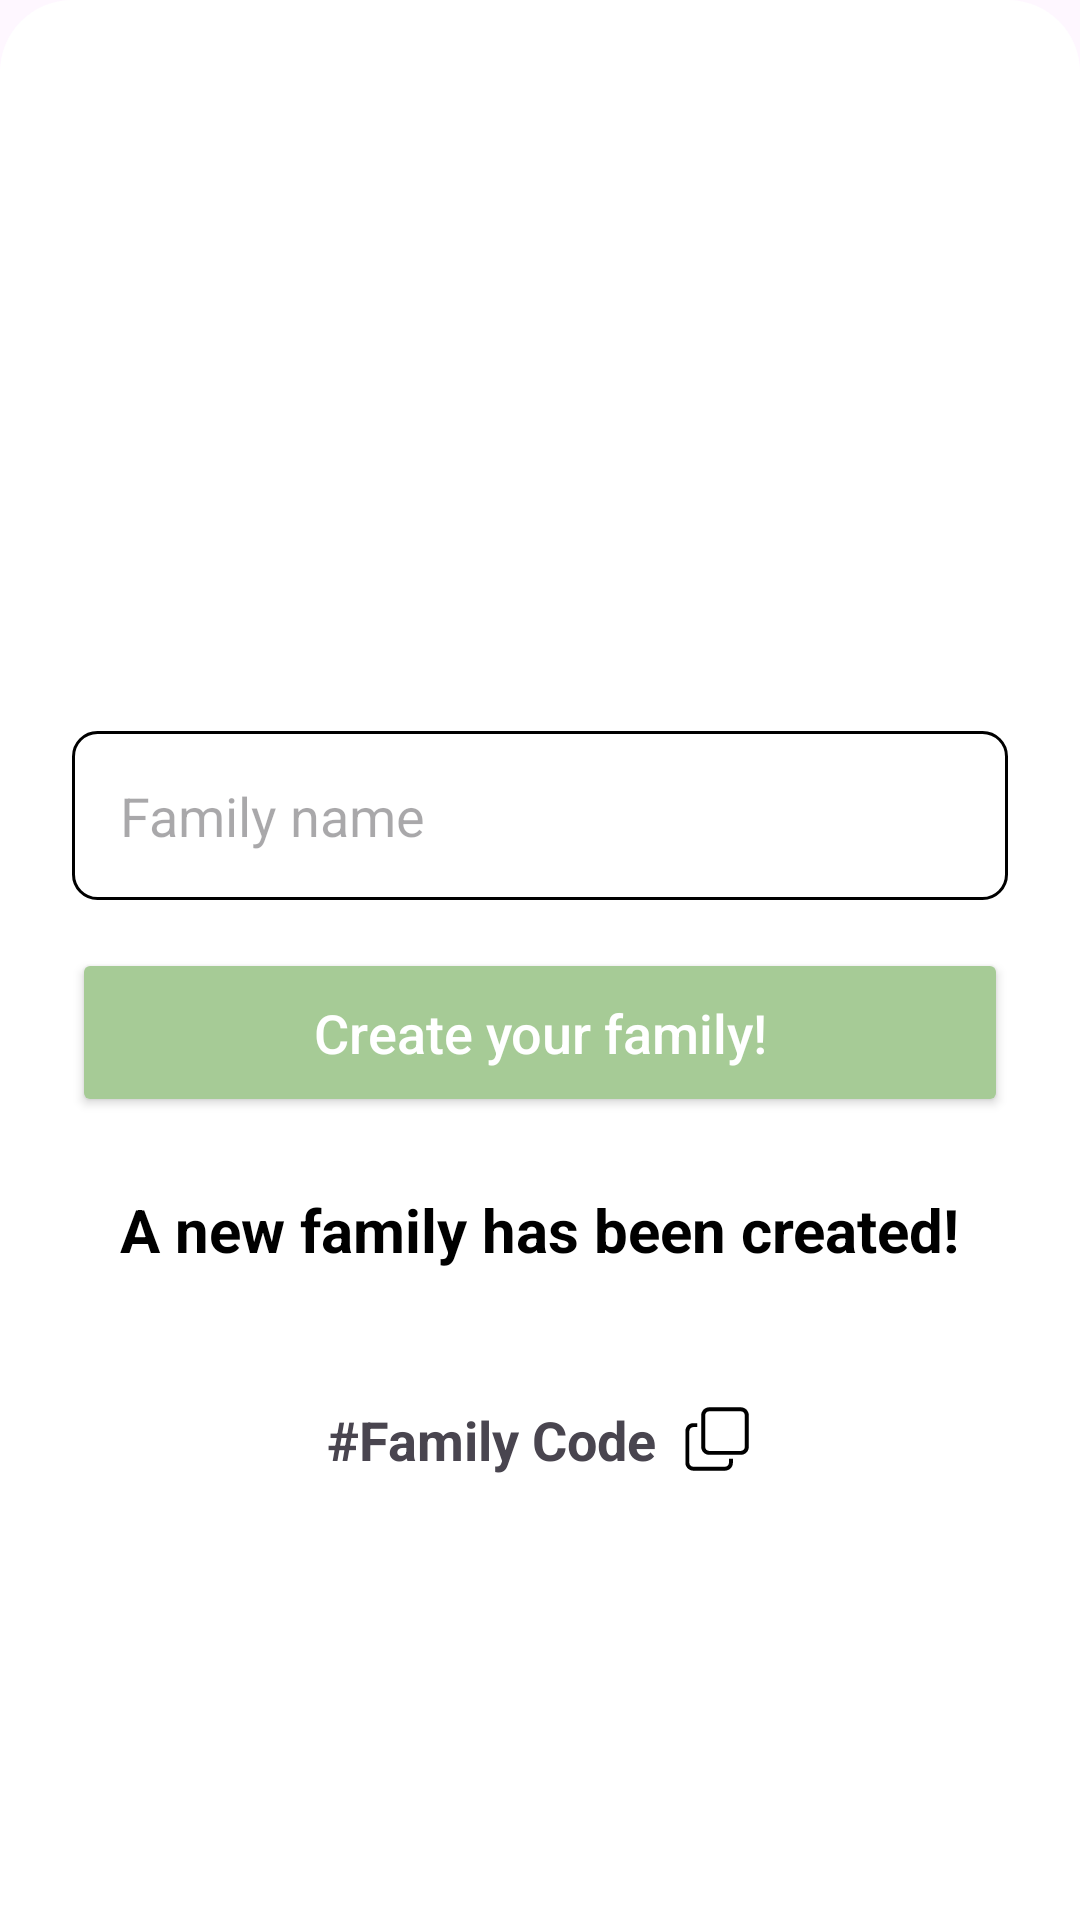

Point at icon controls on the screen. Image size 1080px x 1920px, points as point (x, y).
copybtn: point (717, 1439)
